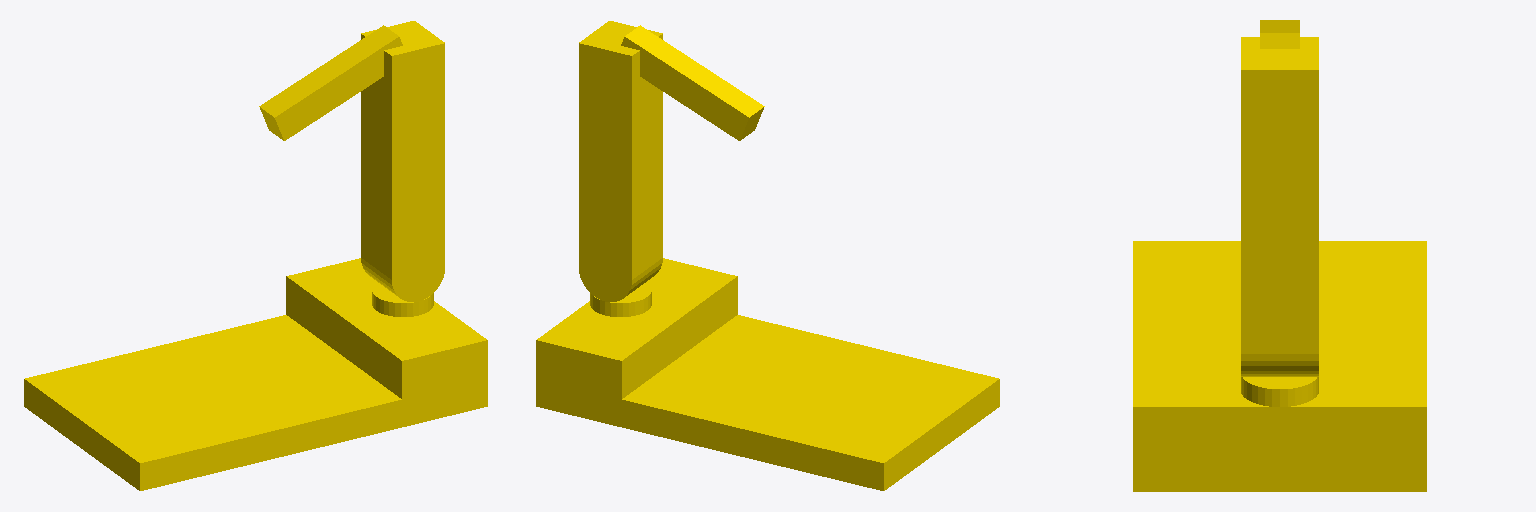
The robot description file, URDF, robot "rover_crane":
<?xml version="1.0" ?>
<robot name="rover_crane">

    <material name="gold">
        <color rgba="1 0.882 0 1"/>
    </material>

    <link name="rover_base_link">        
        <visual>
            <origin xyz="0 0 0.125" rpy="0 0 0" />
            <geometry>
               <box size="2.6 1.5 0.2"/>
            </geometry>
            <material name="gold"/>
        </visual>
        <collision>
            <origin xyz="0 0 0.125" rpy="0 0 0" />
            <geometry>
                <box size="2.6 1.5 0.2"/>
            </geometry>
        </collision>

        <visual>
            <!-- 1.3 - 0.32 -->
            <origin xyz=".98 0 0.35" rpy="0 0 0" />
            <geometry>
               <box size="0.64 1.5 0.3"/>
            </geometry>
            <material name="gold"/>
        </visual>
        <collision>
            <origin xyz=".98 0 0.35" rpy="0 0 0" />
            <geometry>
                <box size="0.64 1.5 0.3"/>
            </geometry>
        </collision>  
    </link>
    
    <link name="crane_base_link"/>

    <joint name="fix_to_chassis" type="fixed">
        <parent link="rover_base_link"/>
        <child link="crane_base_link"/>
        <origin xyz="1.1 0 0.5" rpy="0 0 0"/>
    </joint>

    <link name="crane_yaw">
        <visual>
            <origin xyz="0 0 0.05" rpy="0 0 0" />
            <geometry>
               <cylinder length="0.1" radius="0.2"/>
            </geometry>
            <material name="gold"/>
        </visual>
        <collision>
            <origin xyz="0 0 0.05" rpy="0 0 0" />
            <geometry>
                <cylinder length="0.1" radius="0.2"/>
            </geometry>
        </collision>    
    </link>
    
    <joint name="joint0_1" type="revolute">
        <parent link="crane_base_link"/>
        <child link="crane_yaw"/>
        <origin xyz="0 0 0" rpy="0 0 0"/>
        <axis xyz="0 0 1"/>
        <limit lower="-0.523599" upper="0.523599" effort="0" velocity="0"/>
    </joint>

    <link name="crane_link1">
        <visual>
            <origin xyz="0 0 0" rpy="1.5708 0 0" />
            <geometry>
               <cylinder length="0.4" radius="0.2"/>
            </geometry>
            <material name="gold"/>
        </visual>
        <collision>
            <origin xyz="0 0 0" rpy="1.5708 0 0" />
            <geometry>
                <cylinder length="0.4" radius="0.2"/>
            </geometry>
        </collision>  

        <visual>
            <origin xyz="-0.8 0 0" rpy="0 0 0" />
            <geometry>
               <box size="1.6 0.4 0.4"/>
            </geometry>
            <material name="gold"/>
        </visual>
        <collision>
            <origin xyz="-0.8 0 0" rpy="0 0 0" />
            <geometry>
                <box size="1.6 0.4 0.4"/>
            </geometry>
        </collision>
    </link>


    <joint name="joint0_2" type="revolute">
        <parent link="crane_yaw"/> 
        <child link="crane_link1"/>
        <origin xyz="0 0 0.3" rpy="0 1.5708 0"/>
        <axis xyz="0 1 0"/>
        <limit lower="0.0" upper="1.5708" effort="0" velocity="0"/>
    </joint>


    <link name="crane_link2">
        <visual>
            <origin xyz="0.6133 0 0" rpy="0 0 0" />
            <geometry>
               <box size="1.2267 0.35 0.35"/>
            </geometry>
            <material name="gold"/>
        </visual>
        <collision>
            <origin xyz="0.6133 0 0" rpy="0 0 0" />
            <geometry>
                <box size="1.2267 0.35 0.35"/>
            </geometry>
        </collision>
    </link>

    <joint name="joint0_3" type="prismatic">
        <parent link="crane_link1"/>
        <child link="crane_link2"/>
        <origin xyz="-1.6 0 0" rpy="0 0 0"/>
        <axis xyz="-1 0 0"/>
        <limit lower="0.0" upper="1.2267" effort="0" velocity="0"/>
    </joint>

    <link name="crane_link3">
        <visual>
            <origin xyz="0.6133 0 0" rpy="0 0 0" />
            <geometry>
               <box size="1.2267 0.3 0.3"/>
            </geometry>
            <material name="gold"/>
        </visual>
        <collision>
            <origin xyz="0.6133 0 0" rpy="0 0 0" />
            <geometry>
                <box size="1.2267 0.3 0.3"/>
            </geometry>
        </collision>
    </link>

    <joint name="joint0_4" type="prismatic">
        <parent link="crane_link2"/>
        <child link="crane_link3"/>
        <origin xyz="0 0 0" rpy="0 0 0"/>
        <axis xyz="-1 0 0"/>
        <limit lower="0.0" upper="1.2267" effort="0" velocity="0"/>
    </joint>

    <link name="crane_link4">
        <visual>
            <origin xyz="0.6133 0 0" rpy="0 0 0" />
            <geometry>
               <box size="1.2267 0.25 0.25"/>
            </geometry>
            <material name="gold"/>
        </visual>
        <collision>
            <origin xyz="0.6133 0 0" rpy="0 0 0" />
            <geometry>
                <box size="1.2267 0.25 0.25"/>
            </geometry>
        </collision>
    </link>

    <joint name="joint0_5" type="prismatic">
        <parent link="crane_link3"/>
        <child link="crane_link4"/>
        <origin xyz="0 0 0" rpy="0 0 0"/>
        <axis xyz="-1 0 0"/>
        <limit lower="0.0" upper="1.2267" effort="0" velocity="0"/>
    </joint>

    <link name="tip">
        <visual>
            <!-- 0.5 + 0.054 -->
            <origin xyz="0 0 -0.554" rpy="0 0 0" />
            <geometry>
               <box size="0.2 0.2 1.0"/>
            </geometry>
            <material name="gold"/>
        </visual>
        <collision>
            <origin xyz="0 0 -0.554" rpy="0 0 0" />
            <geometry>
               <box size="0.2 0.2 1.0"/>
            </geometry>
            <material name="gold"/>
        </collision>
    </link>

    <joint name="tip_joint" type="fixed">
        <parent link="crane_link4"/>
        <child link="tip"/>
        <!-- 90 - 68.7 -->
        <origin xyz="0 0 0" rpy="0 -0.371755130675 0"/>
    </joint>

</robot>

--- What the picture shows (computed from the rendered views, not written in the file) ---
3 views of the same robot in one strip: view 1: azimuth 30°, elevation 25°; view 2: azimuth 150°, elevation 25°; view 3: azimuth 270°, elevation 25° (orthographic).
Robot: rover_crane — 8 links, 7 joints (2 revolute, 3 prismatic, 2 fixed); root link rover_base_link; default pose: all joints at 0.
Visible links, largest first — view 1: rover_base_link, crane_link1, tip, crane_yaw; view 2: rover_base_link, crane_link1, tip, crane_yaw; view 3: rover_base_link, crane_link1, crane_yaw, crane_link2, tip.
Boxes of the visible links, box(x1,y1,x2,y2) form: rover_base_link: box(24, 258, 487, 490); crane_link1: box(361, 21, 444, 301); tip: box(259, 25, 402, 140); crane_yaw: box(372, 283, 433, 316); rover_base_link: box(536, 258, 999, 490); crane_link1: box(579, 21, 662, 301); tip: box(621, 25, 764, 140); crane_yaw: box(590, 283, 651, 316); rover_base_link: box(1133, 241, 1426, 491); crane_link1: box(1241, 37, 1318, 376); crane_yaw: box(1241, 377, 1318, 406); crane_link2: box(1246, 39, 1313, 67); tip: box(1260, 20, 1299, 48).
Size in the robot's own frame: 2.6 by 1.5 by 2.45 metres.
Geometry: primitives only (box / cylinder / sphere), no mesh files.